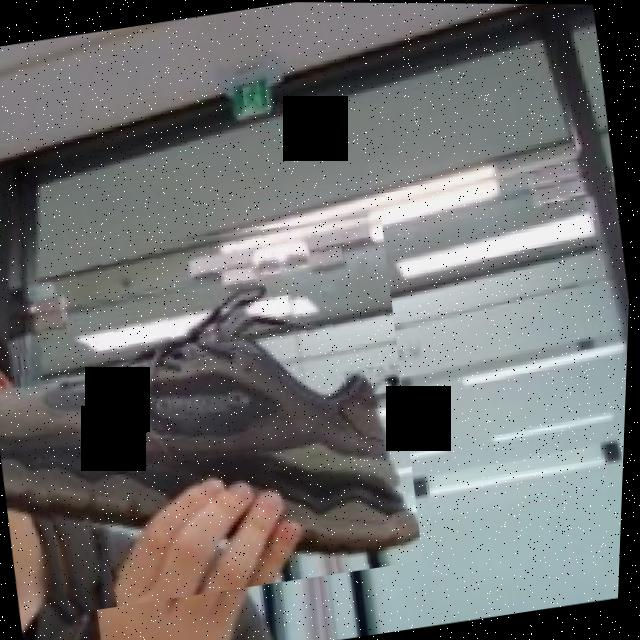shoe: (0, 199, 438, 620)
